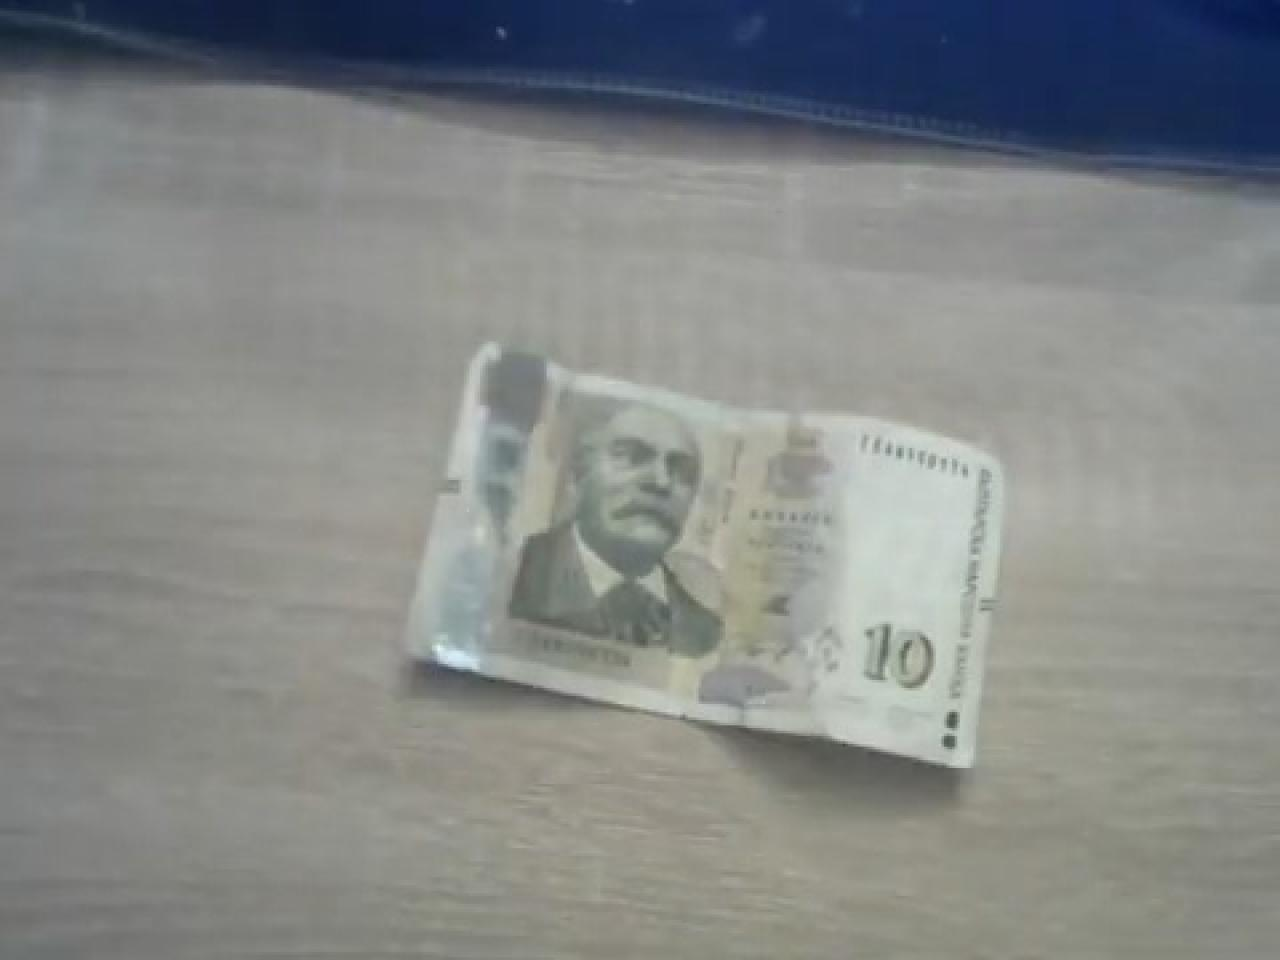10leva: (400, 339, 1005, 770)
